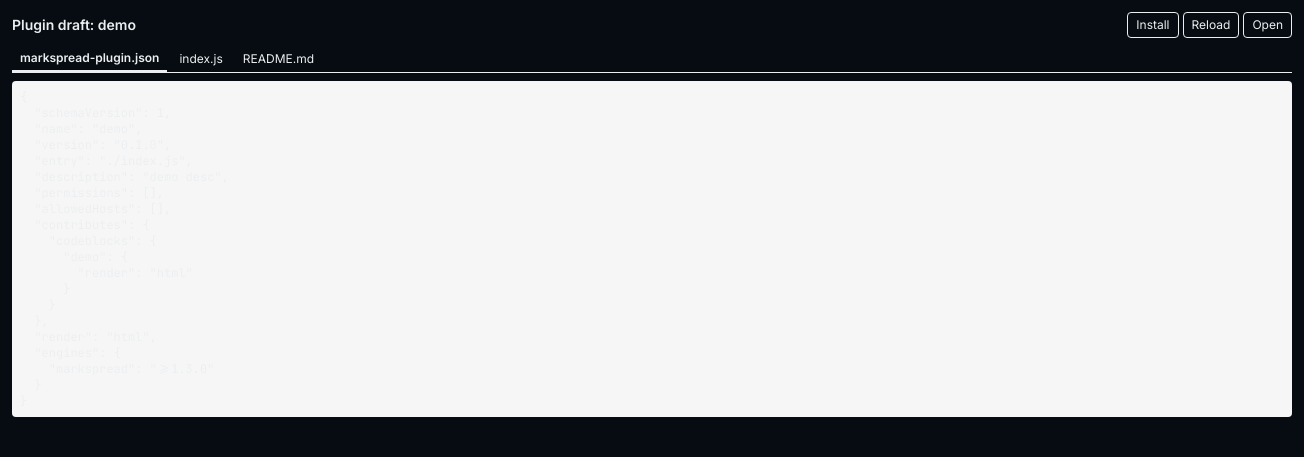
Scenario: PluginAuthorPanel › Reload path: surfaces reload errors
The image size is (1304, 457).
Click the button with test id "plugin-author-reload" at (1211, 25), box [1182,12,1239,38]
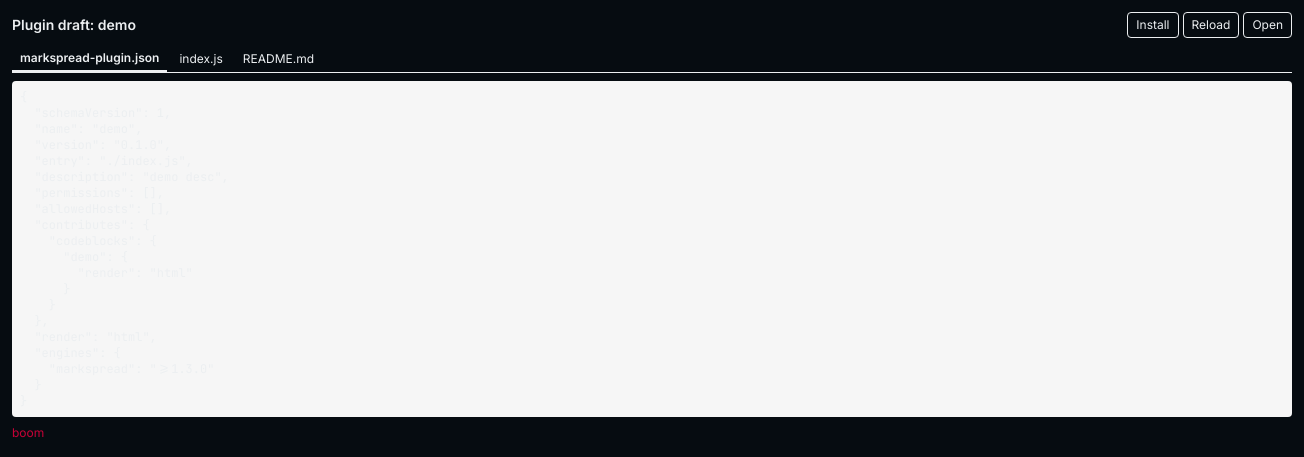
Check: the text with test id "plugin-author-error" reads "boom", box [12,425,44,440]
